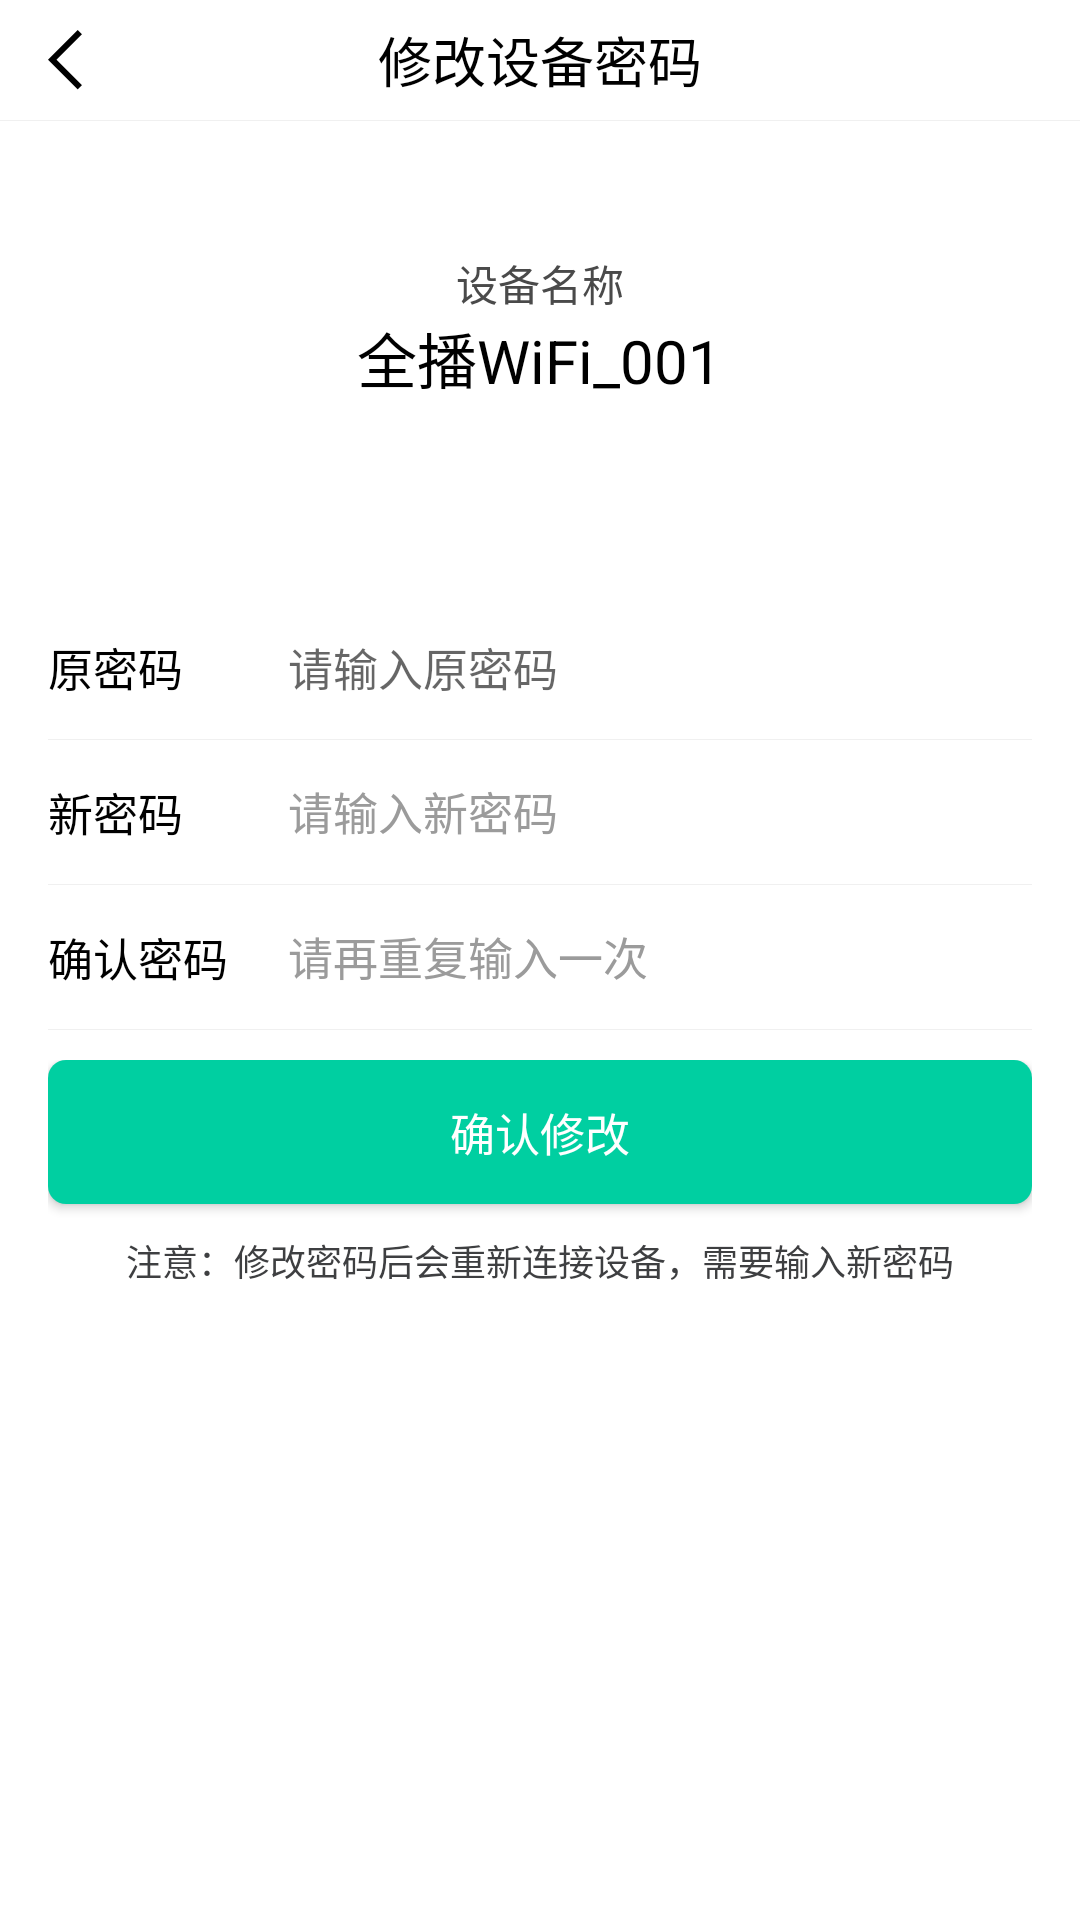

Where icons sit on this 1080w x 1920h app screen, as [x1,y1,x2,y2]:
back: [48,30,82,90]
